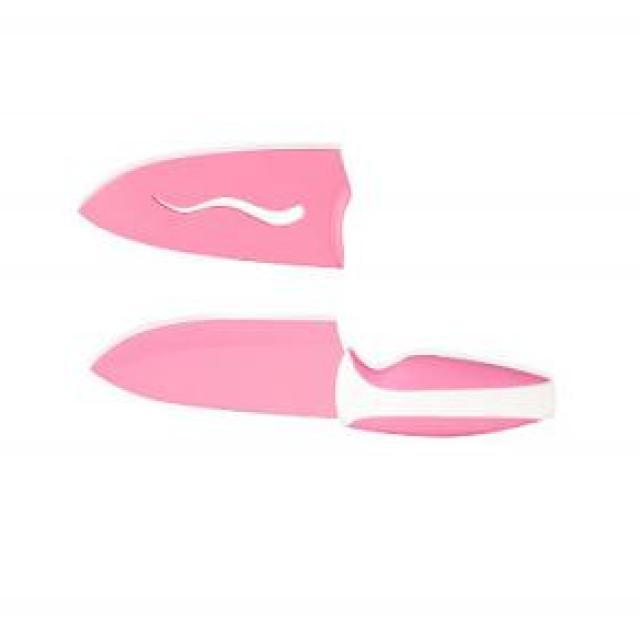knife: (92, 317, 560, 438), (79, 144, 355, 274)
